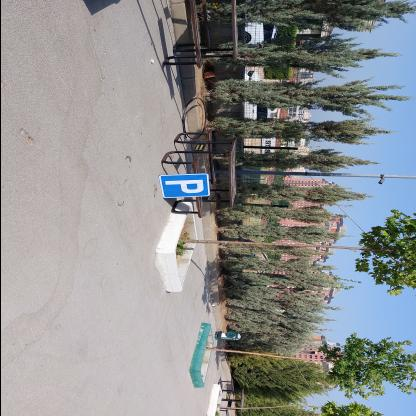Parking-Sign: (158, 174, 211, 200)
